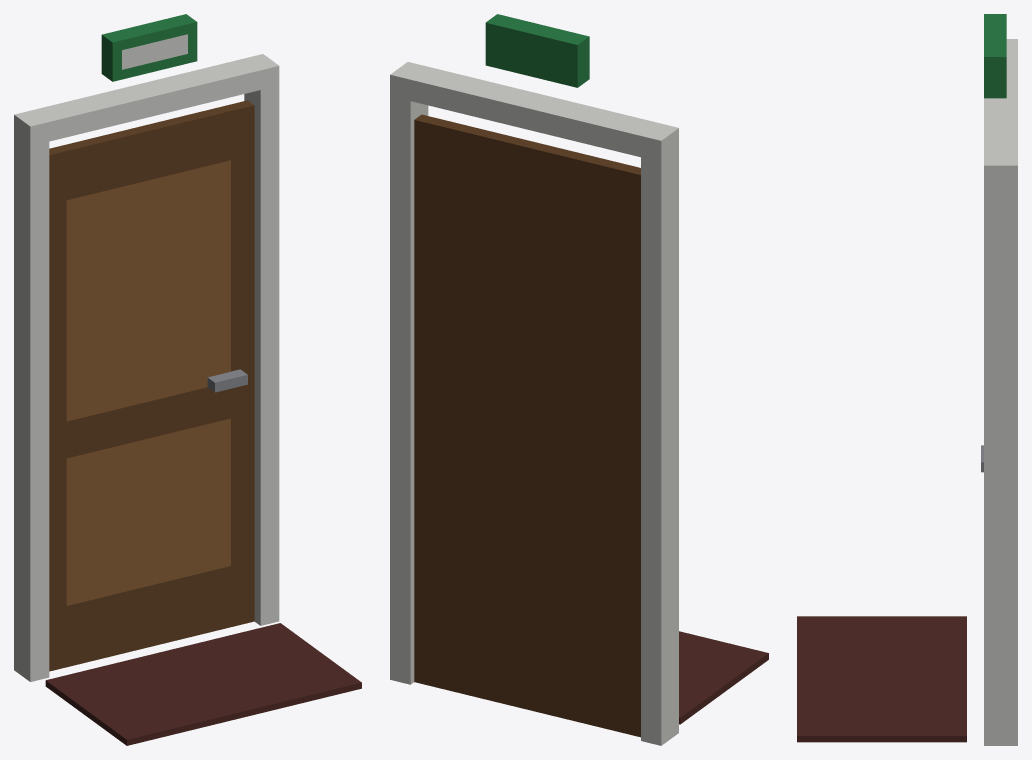
Rendered from prop_room-door.glb.
3 renders of one model, left to right at view 1: azimuth 30°, elevation 25°; view 2: azimuth 150°, elevation 25°; view 3: azimuth 270°, elevation 25°, orthographic. The views are drawn at different scales.
Parts seen in each view (by area): view 1: body; view 2: body; view 3: body.
Part boxes in pixels (x1=…): body: x1=14, y1=14, x2=361, y2=745; body: x1=390, y1=14, x2=768, y2=745; body: x1=797, y1=14, x2=1017, y2=745.
Bounding box in the file's own units: 1.06 × 2.52 × 0.78.
